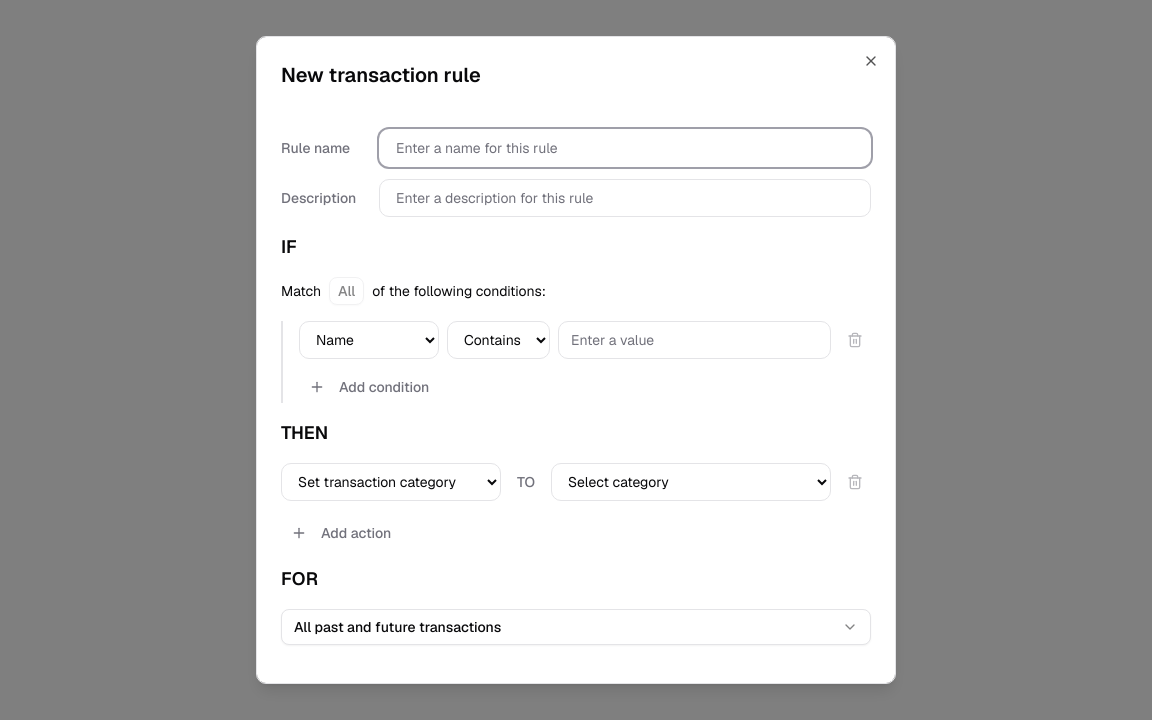
Test case: AddRuleModal › shows the failure reason and stays open
Type "Coffee rule" into the field with placeholder "Enter a name for this rule". click: (625, 148)
box: [379,129,871,167]
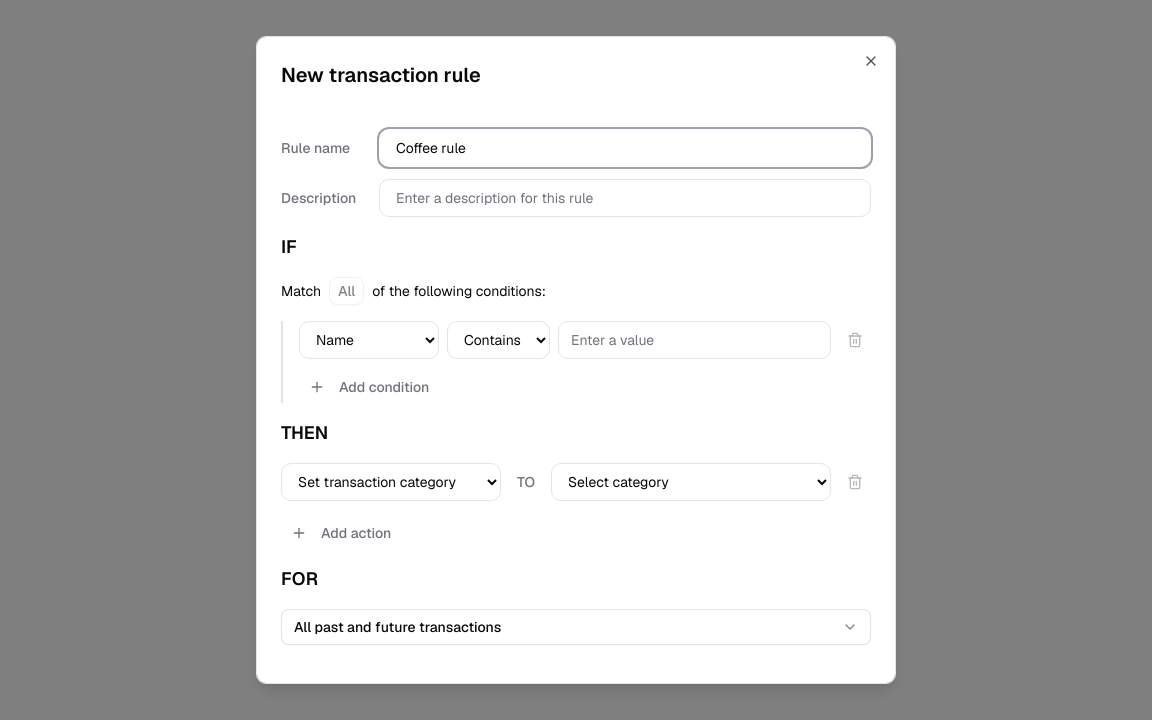
Type "coffee" into the field with placeholder "Enter a value". click: (694, 340)
box: [558,321,831,359]
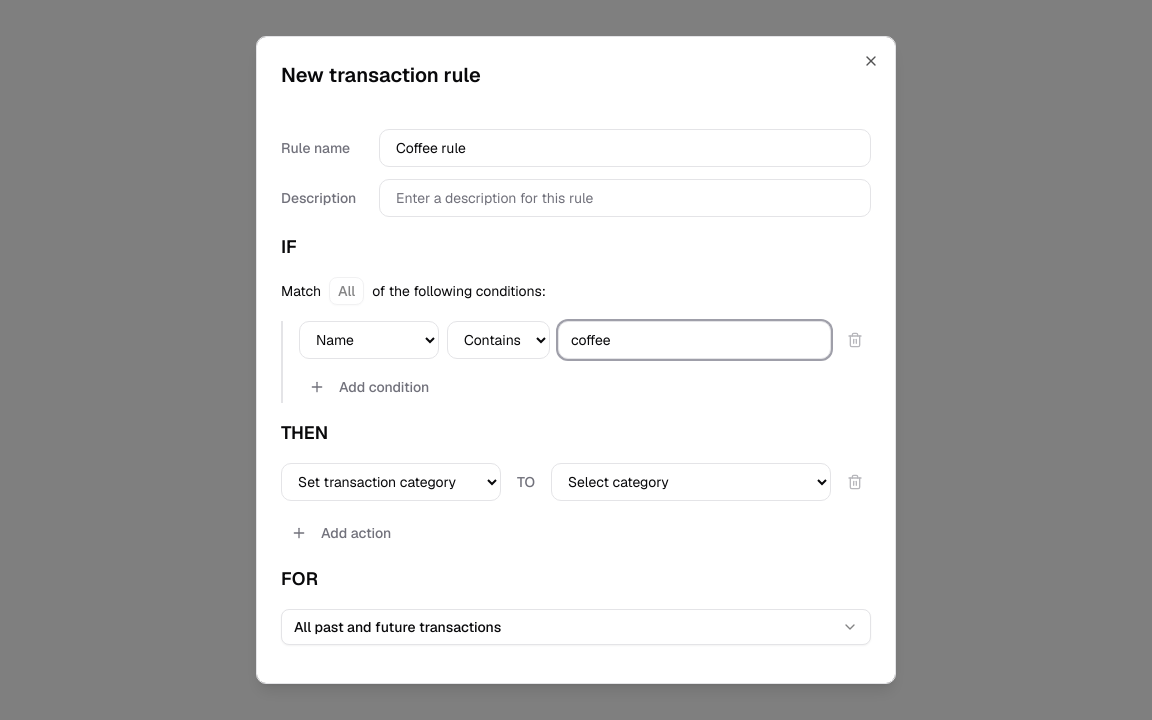
Select "Food" in the 4th dropdown. click: (691, 482)
box: [551,463,831,501]
(page scrolled)
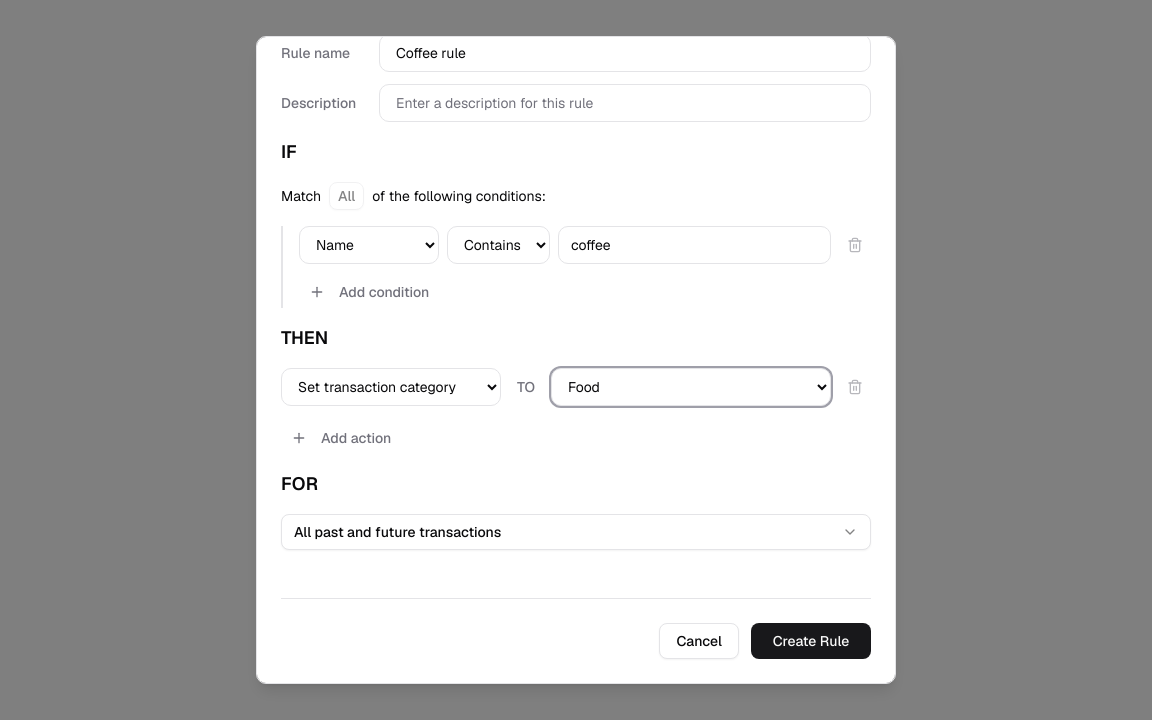
Click the button "Create Rule". click: (811, 641)
box: [751,623,871,659]
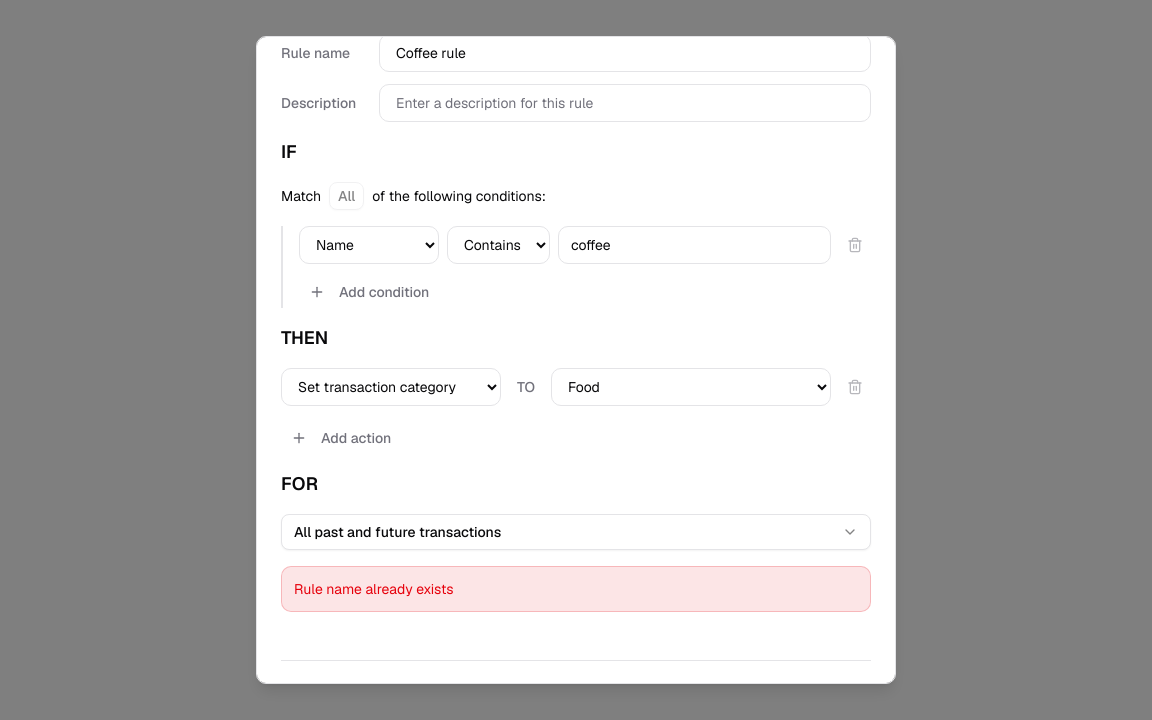
Expected: the text "Rule name already exists" is shown, [281,566,871,612]
